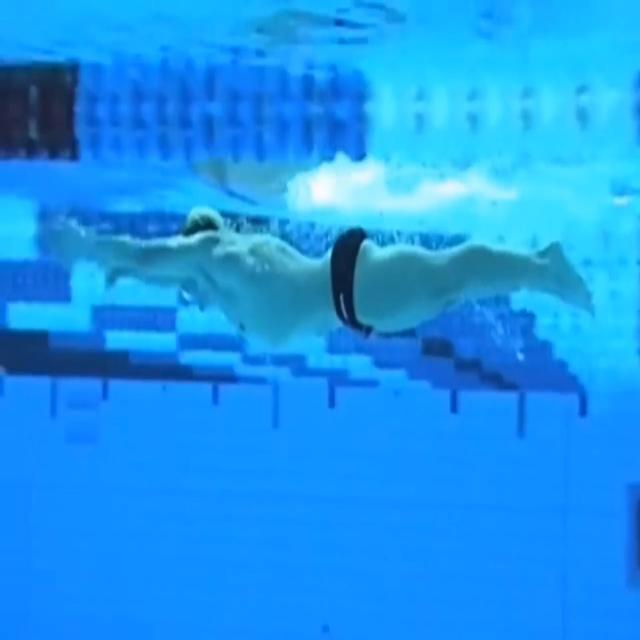Swimming: (39, 202, 597, 343)
